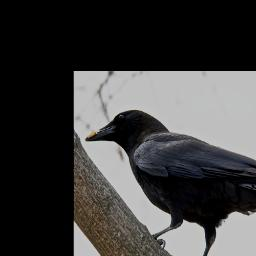Crow: (85, 110, 256, 256)
